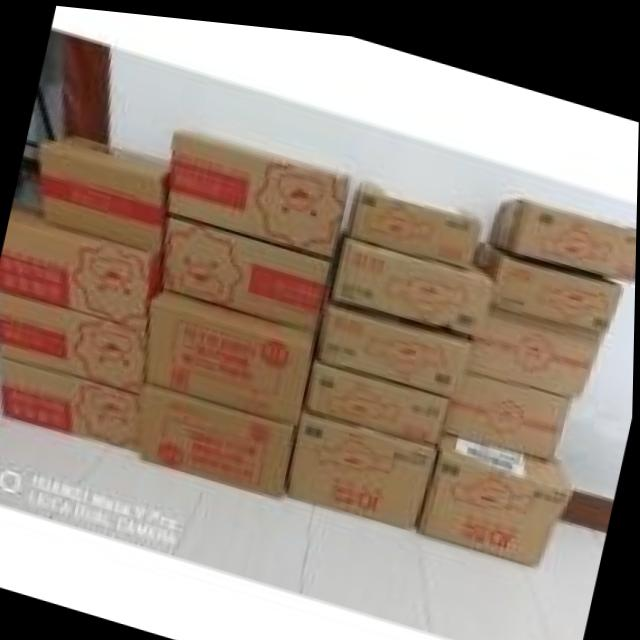box: (166, 125, 353, 253), (148, 286, 316, 422), (420, 421, 576, 555), (0, 203, 164, 327), (162, 210, 331, 326), (290, 400, 440, 520), (141, 380, 298, 492), (329, 228, 496, 326), (0, 289, 150, 393), (40, 134, 171, 250), (477, 229, 625, 331), (316, 293, 473, 388), (304, 352, 453, 437), (1, 358, 141, 446), (490, 187, 637, 268), (350, 175, 482, 262), (465, 305, 601, 385), (446, 364, 574, 448)
